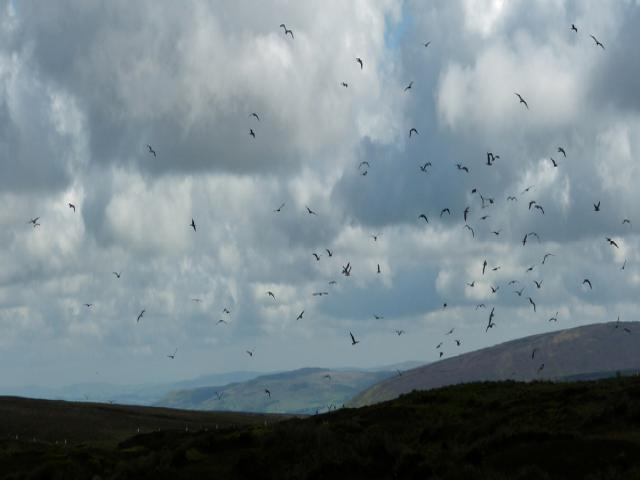Bird: (25, 18, 633, 408), (280, 23, 294, 36)
